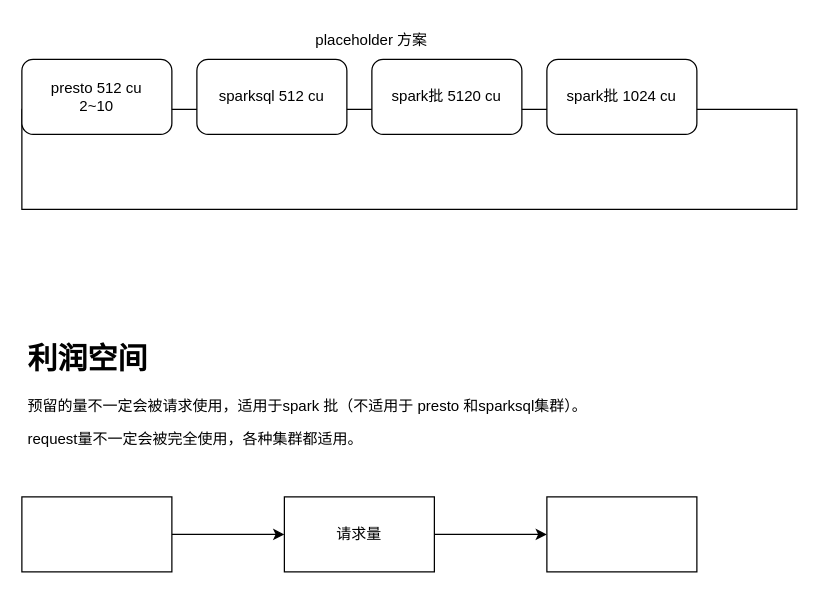
Image size: 819x594. Some labels were removed from this diagram. Each missing label, with the centre of its shape:
10000核包年包月资源: pixel 409 158
使用量: pixel 621 534
预留量: pixel 96 534
